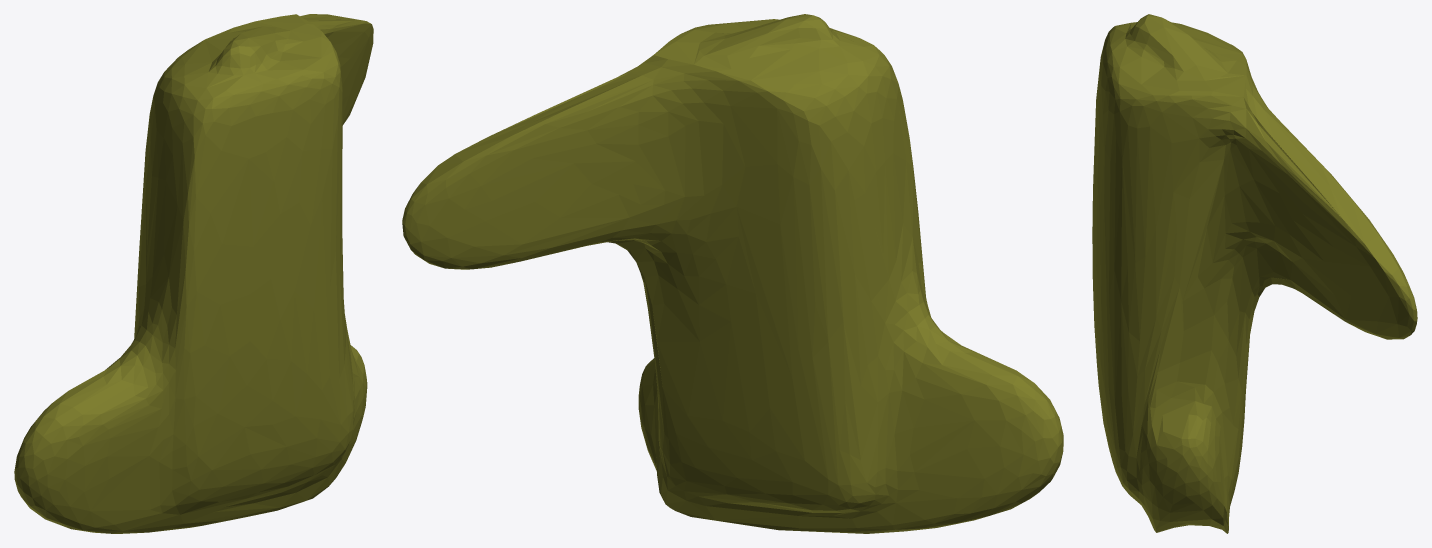
The picture shows the model from 3 angles, left to right: view 1: azimuth 30°, elevation 25°; view 2: azimuth 150°, elevation 25°; view 3: azimuth 270°, elevation 25°; orthographic projection. The views are drawn at different scales.
Parts seen in each view (by area): view 1: 453_Cube.1836; view 2: 453_Cube.1836; view 3: 453_Cube.1836.
Boxes of the visible parts, x1=… form: 453_Cube.1836: x1=14, y1=14, x2=373, y2=533; 453_Cube.1836: x1=402, y1=14, x2=1063, y2=533; 453_Cube.1836: x1=1092, y1=14, x2=1417, y2=533.
Bounding box in the file's own units: 14.8 × 13.72 × 8.42.
